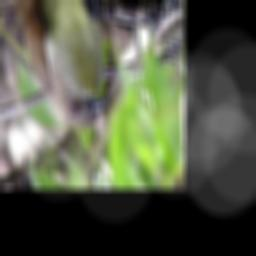Cuckoo: (11, 0, 110, 130)
